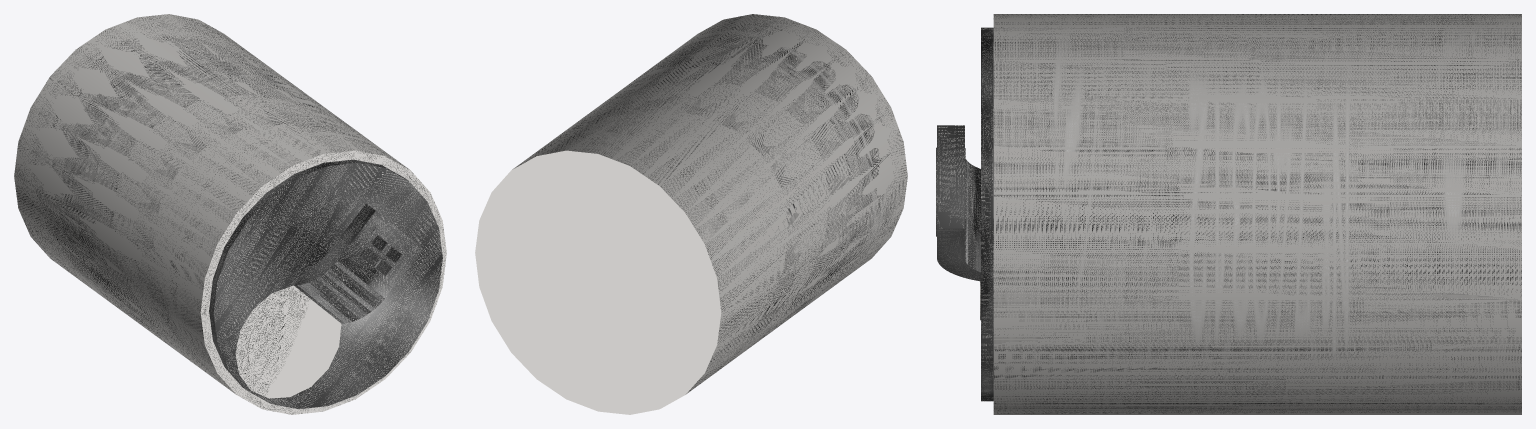
File: model_align.obj
3 views of the same model, side by side, from view 1: azimuth 30°, elevation 25°; view 2: azimuth 150°, elevation 25°; view 3: azimuth 270°, elevation 25° (orthographic). The views are drawn at different scales.
Visible parts, largest first — view 1: mesh1_mesh1-geometry; view 2: mesh1_mesh1-geometry; view 3: mesh1_mesh1-geometry.
Part boxes in pixels (x1,y1,x2,y2): mesh1_mesh1-geometry: (14, 14, 446, 414); mesh1_mesh1-geometry: (475, 14, 907, 414); mesh1_mesh1-geometry: (936, 14, 1521, 414).
Size of the model in its own units: 0.069 by 0.069 by 0.1003.
